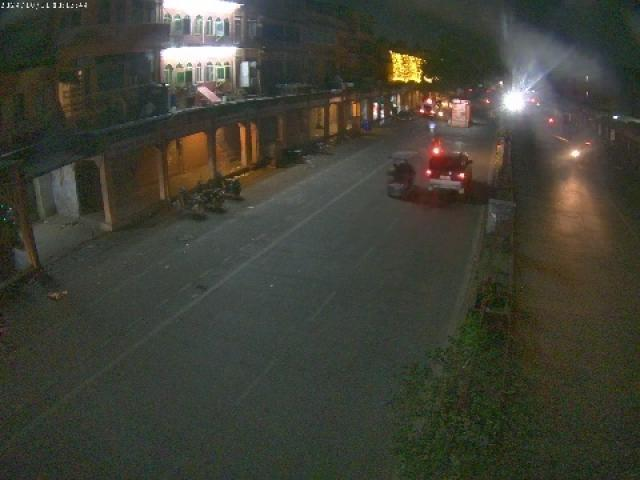car: (426, 147, 474, 204)
